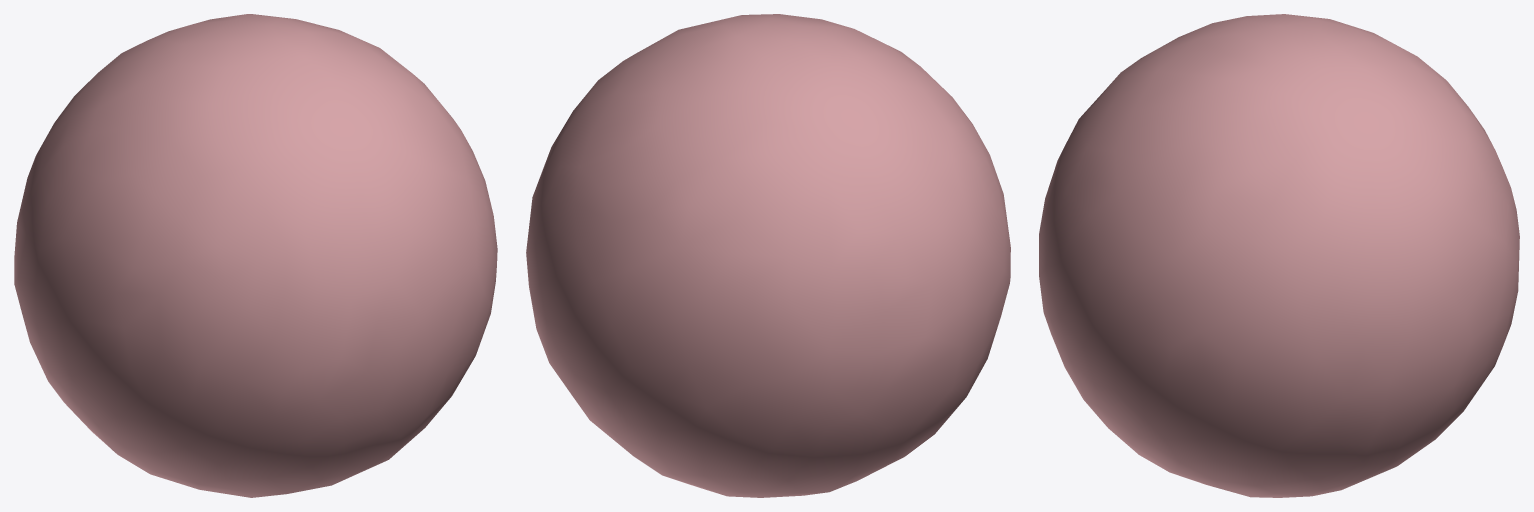
The model's file is fma78474_mm3087m.glb.
3 renders of one model, left to right at view 1: azimuth 30°, elevation 25°; view 2: azimuth 150°, elevation 25°; view 3: azimuth 270°, elevation 25°, orthographic.
Visible parts, largest first — view 1: FMA78474_MM3087M; view 2: FMA78474_MM3087M; view 3: FMA78474_MM3087M.
Part boxes in pixels (<box>): FMA78474_MM3087M: <box>14,14,497,497</box>; FMA78474_MM3087M: <box>526,14,1010,497</box>; FMA78474_MM3087M: <box>1039,14,1519,497</box>.
Size of the model in its own units: 0.00257 by 0.00259 by 0.00257.
